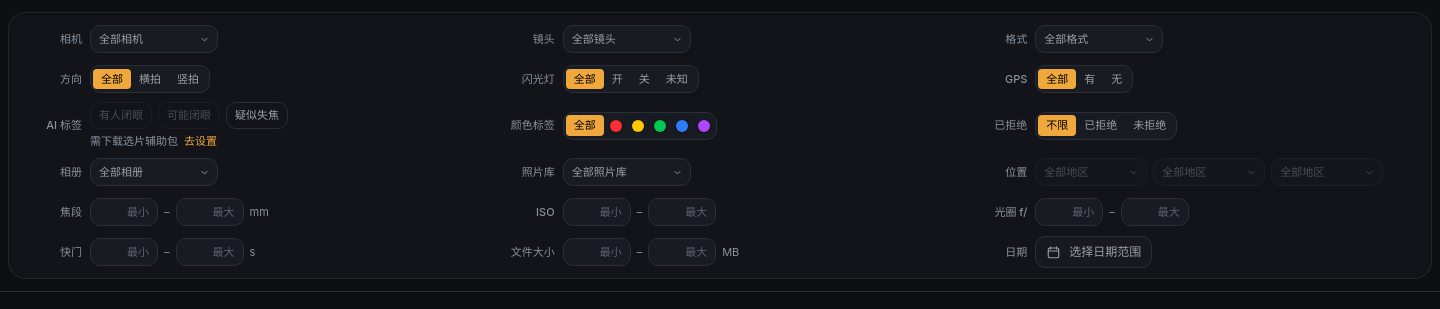
筛选面板：照片库维度下拉 › 空登记表：下拉显示空态文案（不报错）
The image size is (1440, 309).
Click the button with test id "search-library-button" at x=627, y=172, box [564, 159, 690, 185]
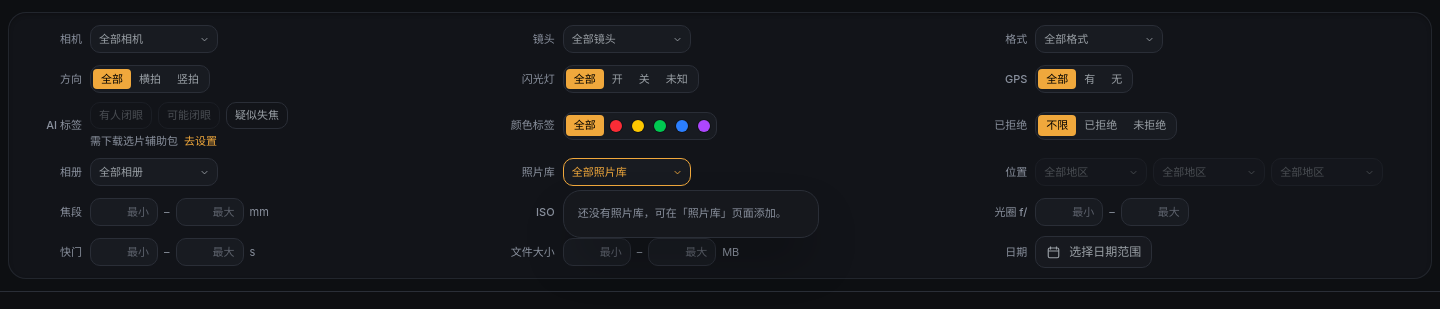
Check: the element with test id "search-library-menu" shows "还没有照片库", box [578, 206, 787, 220]
